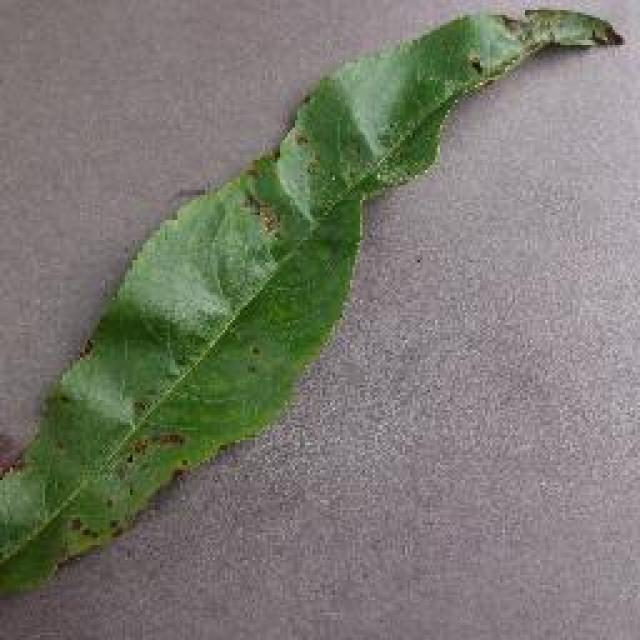Peach_Bacterial_Spot: (178, 100, 310, 505)
